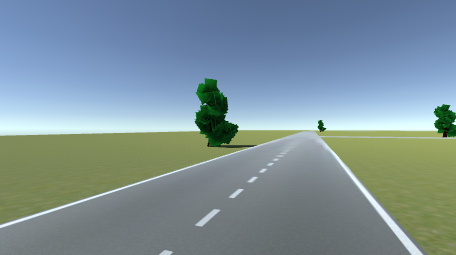tree: (194, 78, 240, 147), (432, 103, 456, 139), (316, 118, 328, 133)
